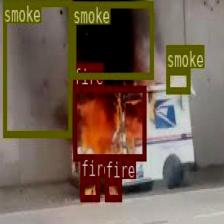fire: (72, 84, 146, 160), (80, 177, 99, 201), (104, 177, 121, 200)
smoke: (2, 0, 72, 136), (72, 0, 152, 78), (166, 68, 190, 92)
